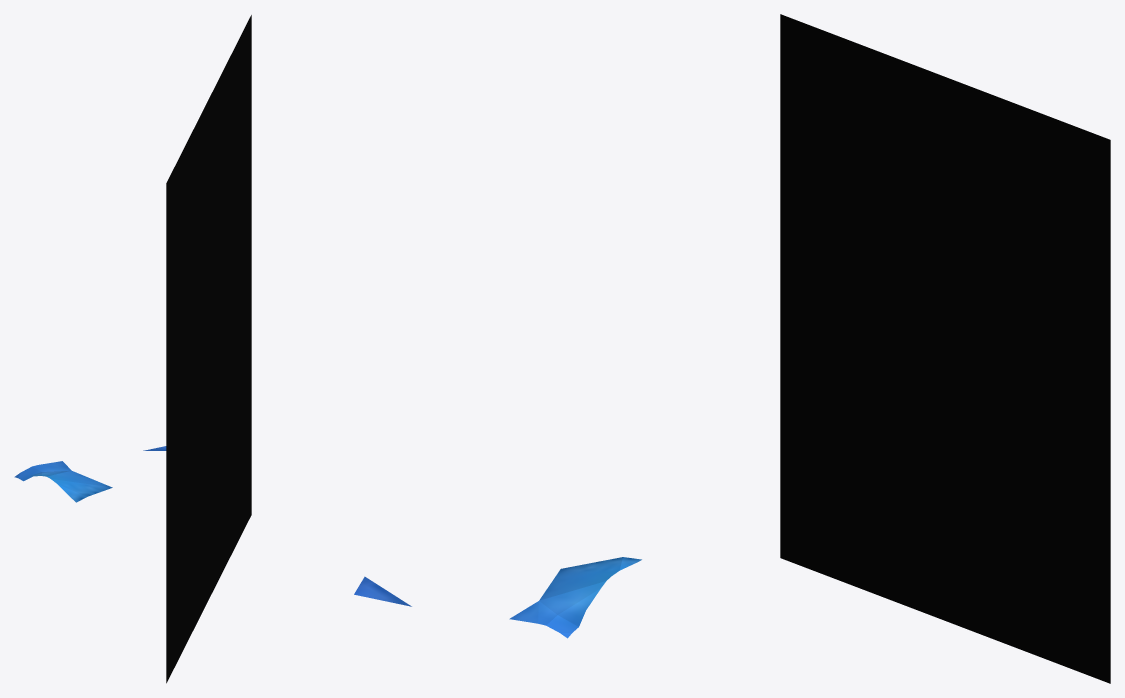
3 renders of one model, left to right at view 1: azimuth 30°, elevation 25°; view 2: azimuth 150°, elevation 25°; view 3: azimuth 270°, elevation 25°, orthographic. The views are drawn at different scales.
Size of the model in its own units: 4.47 by 9 by 4.96.
2 materials, 2 textured.
